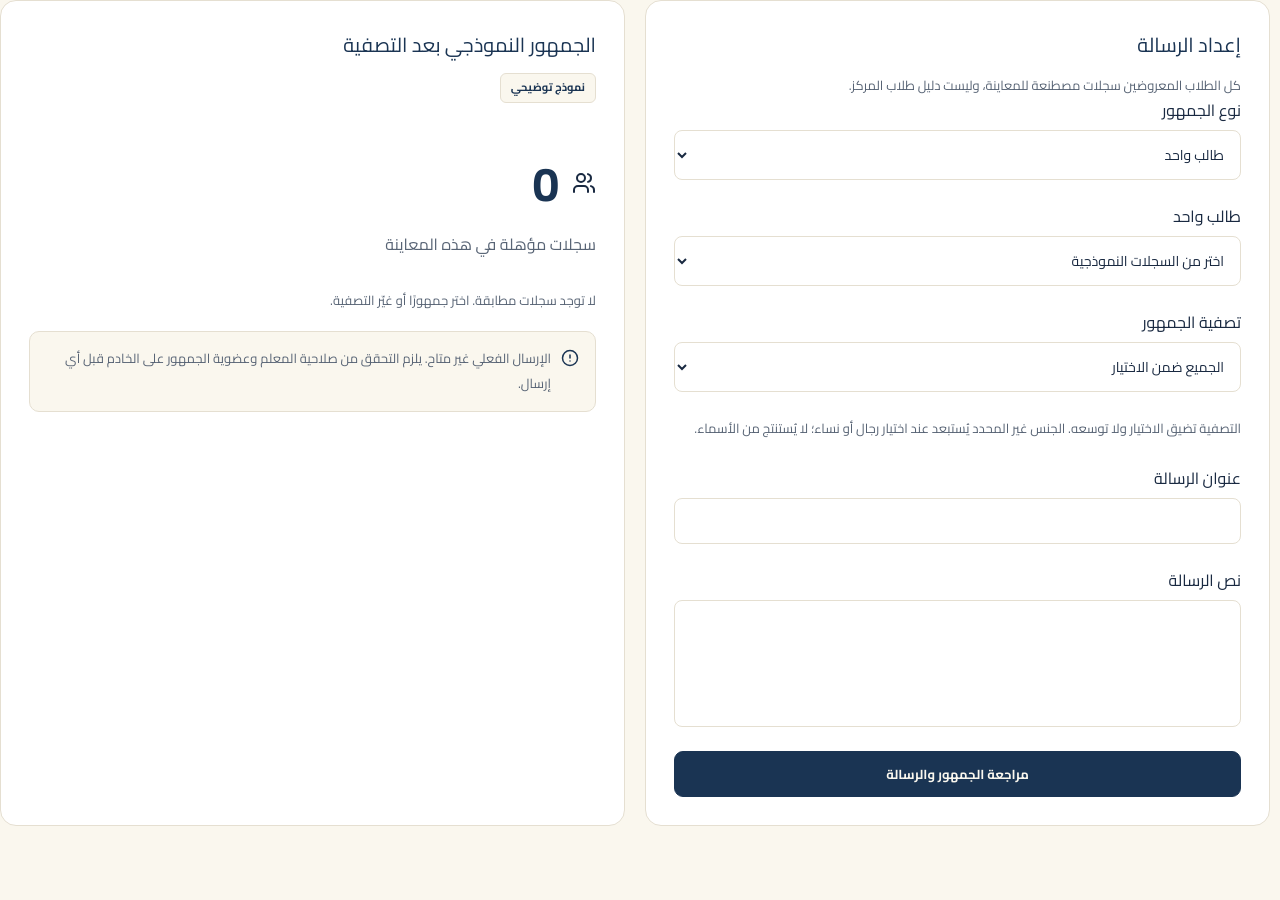
marketing tool previews › reviews recipients, restores focus, and invalidates completion after editing
Select "طالب نموذجي أ" in the dropdown labelled "طالب واحد" at (958,261), box [674,236,1241,286]
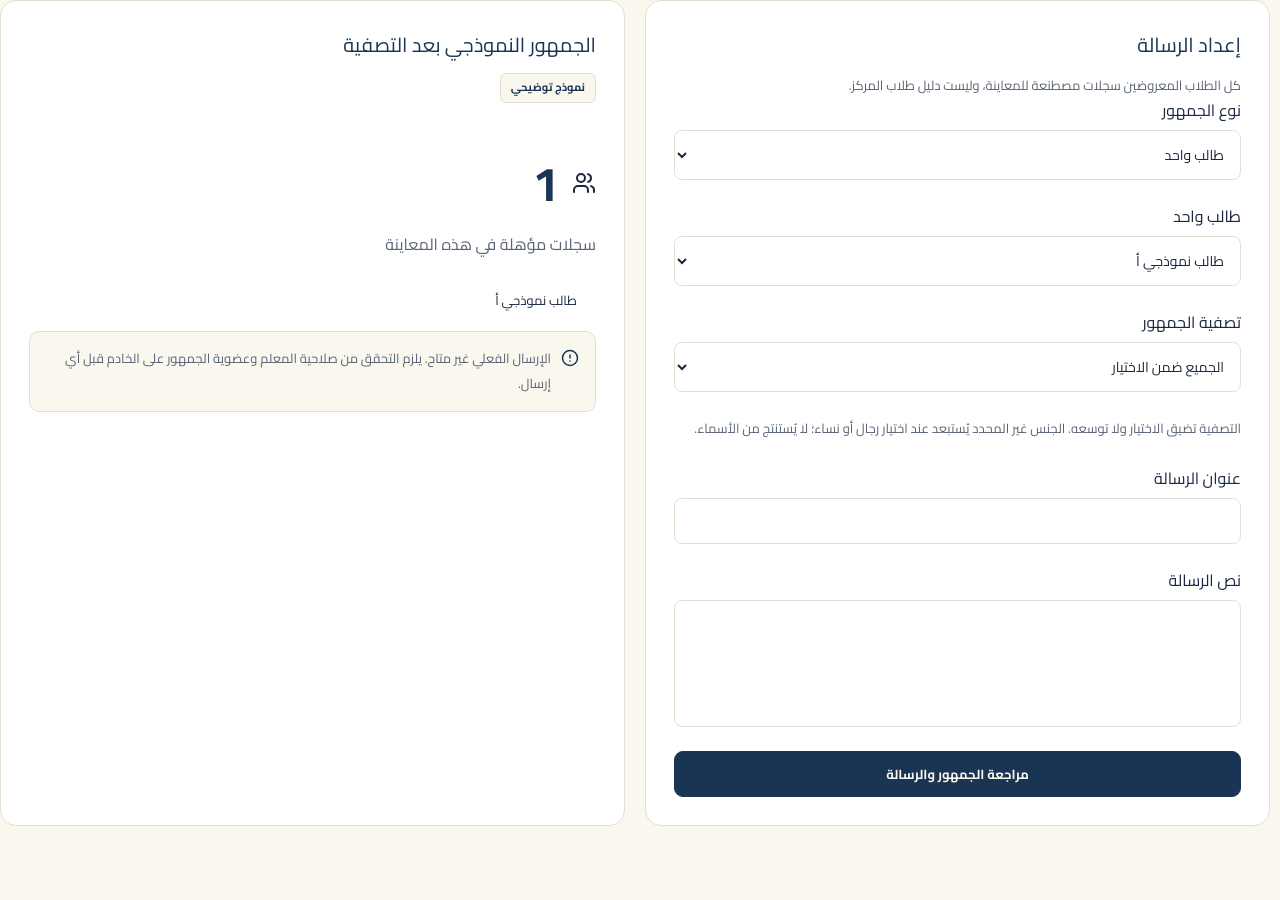
Type "عنوان محلي" into the field labelled "عنوان الرسالة" at (958,521), box [674,498,1241,544]
Type "نص نموذجي" into the text box labelled "نص الرسالة" at (958,663), box [674,600,1241,727]
Click the button "مراجعة الجمهور والرسالة" at (958,774), box [674,751,1241,797]
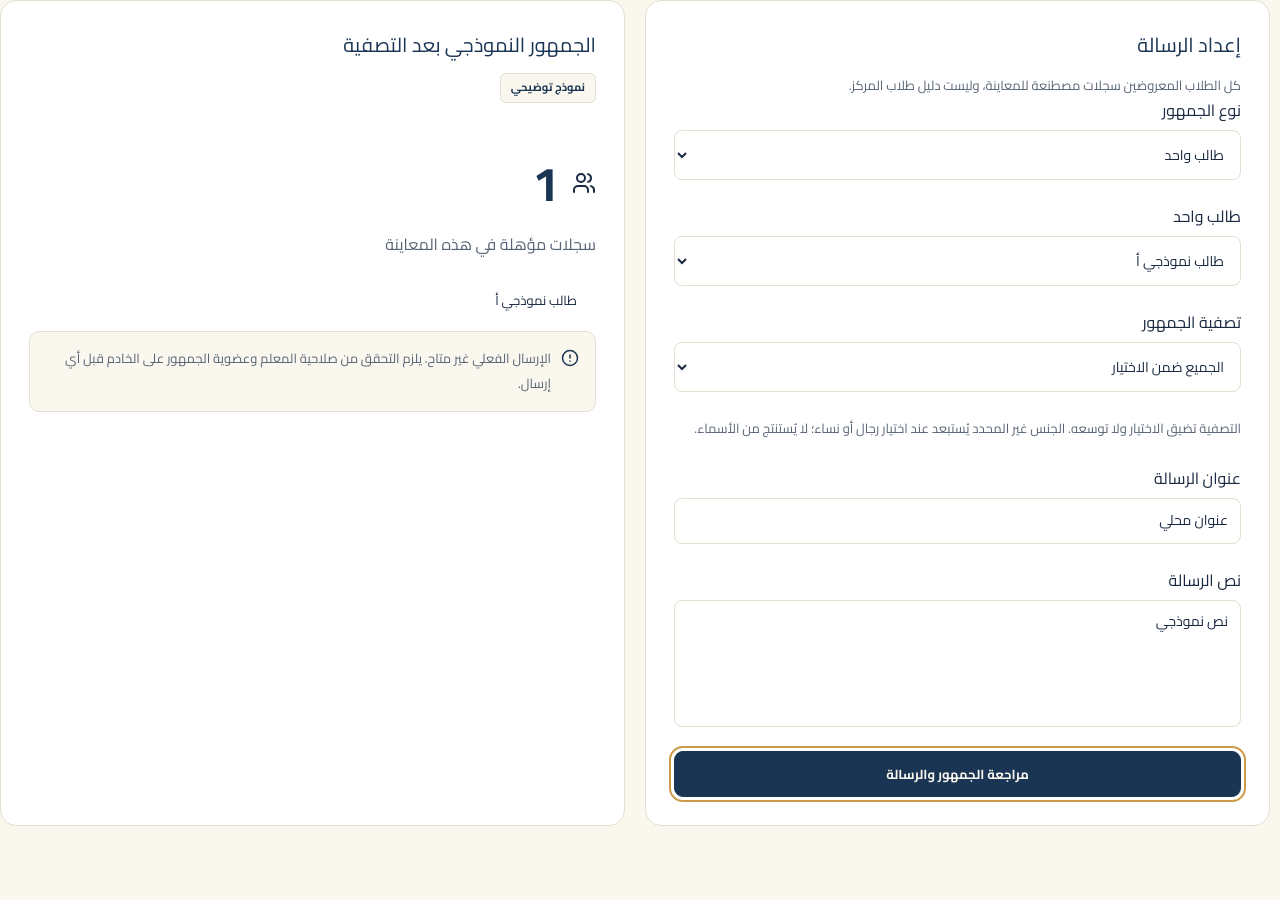
Click the button "مراجعة الجمهور والرسالة" at (958,774), box [674,751,1241,797]
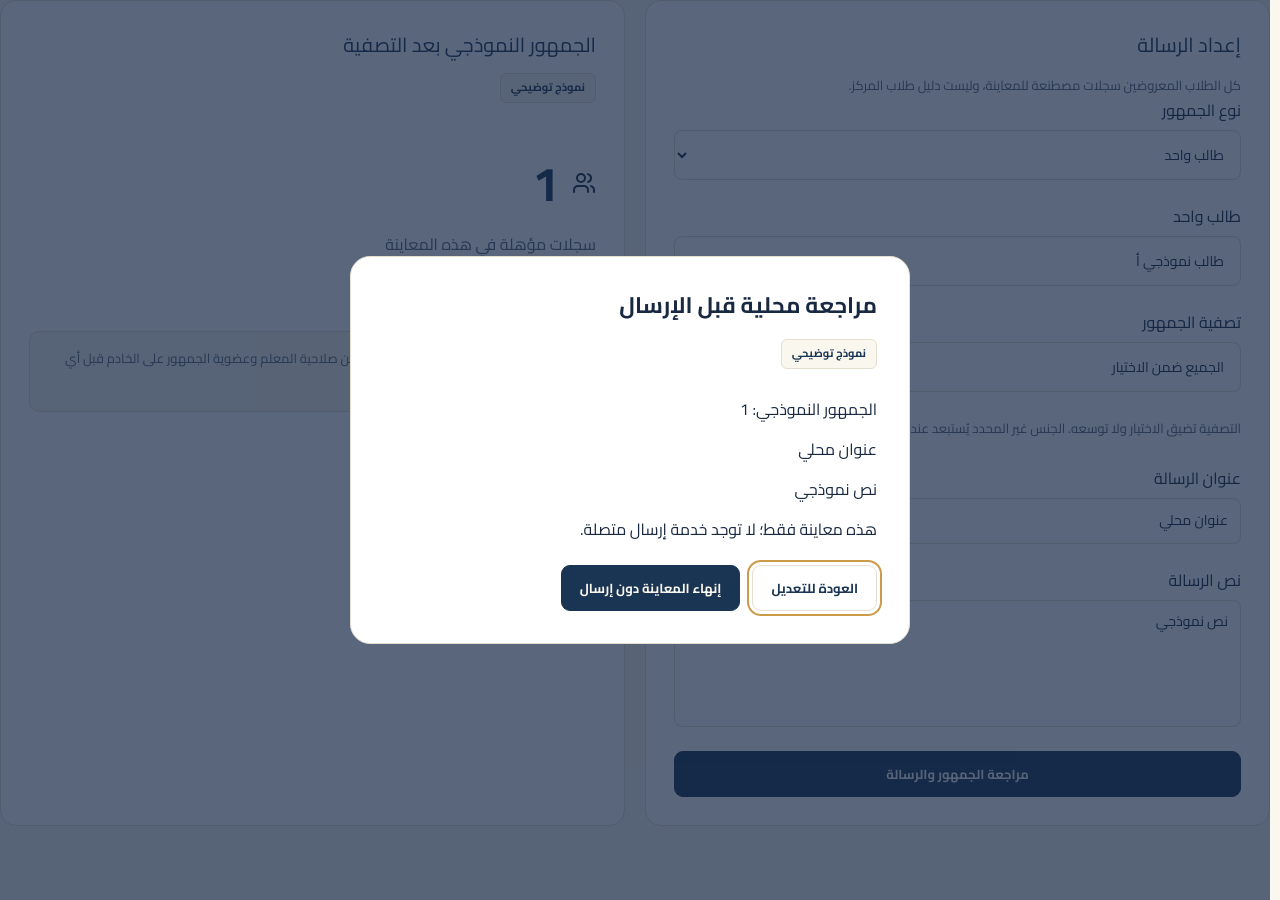
Click the button "إنهاء المعاينة دون إرسال" at (651,588), box [561,565,740,611]
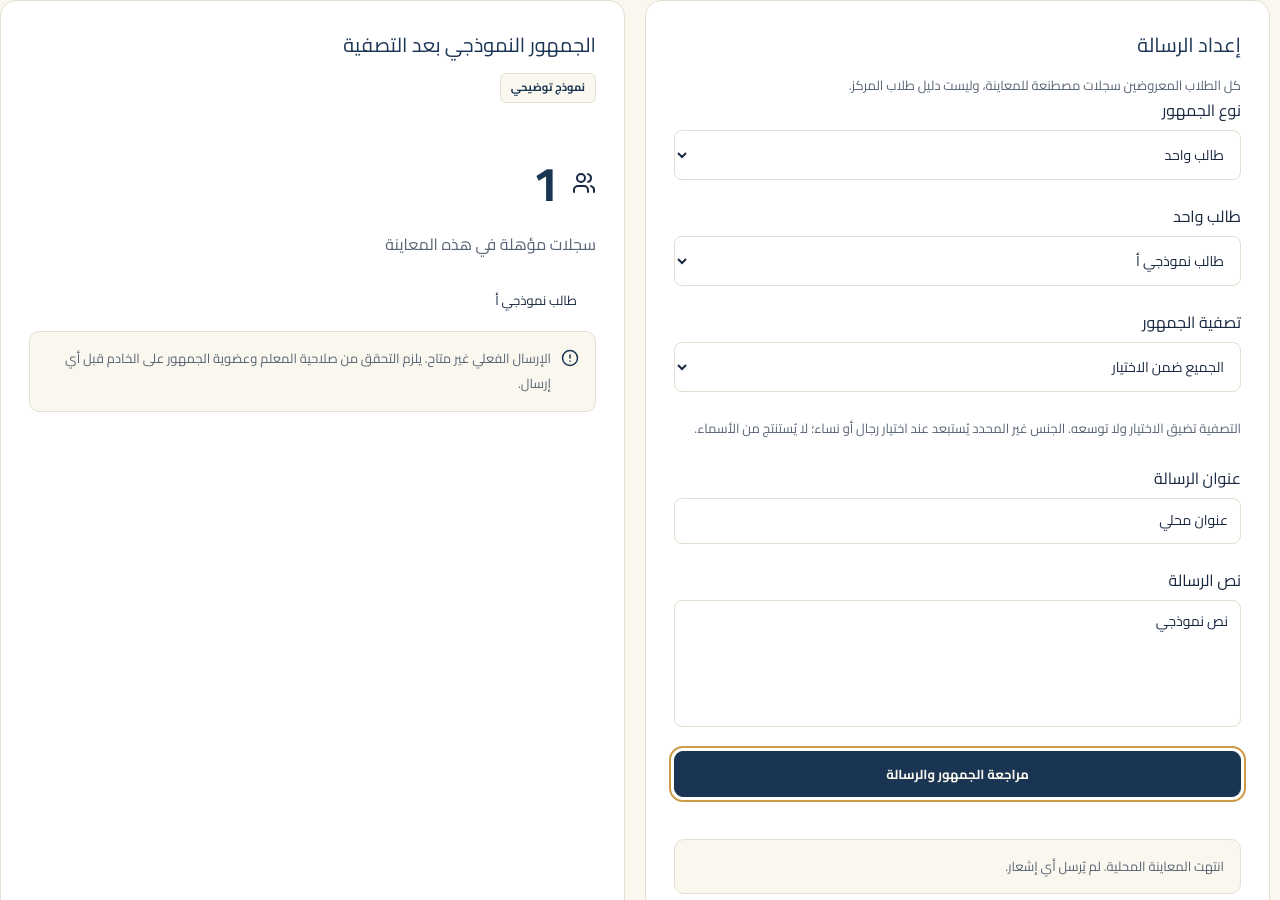
Result: the message shows "لم يُرسل أي إشعار" at [1005,854,1224,878]
Select "نساء فقط" in the dropdown labelled "تصفية الجمهور" at (958,367), box [674,342,1241,392]
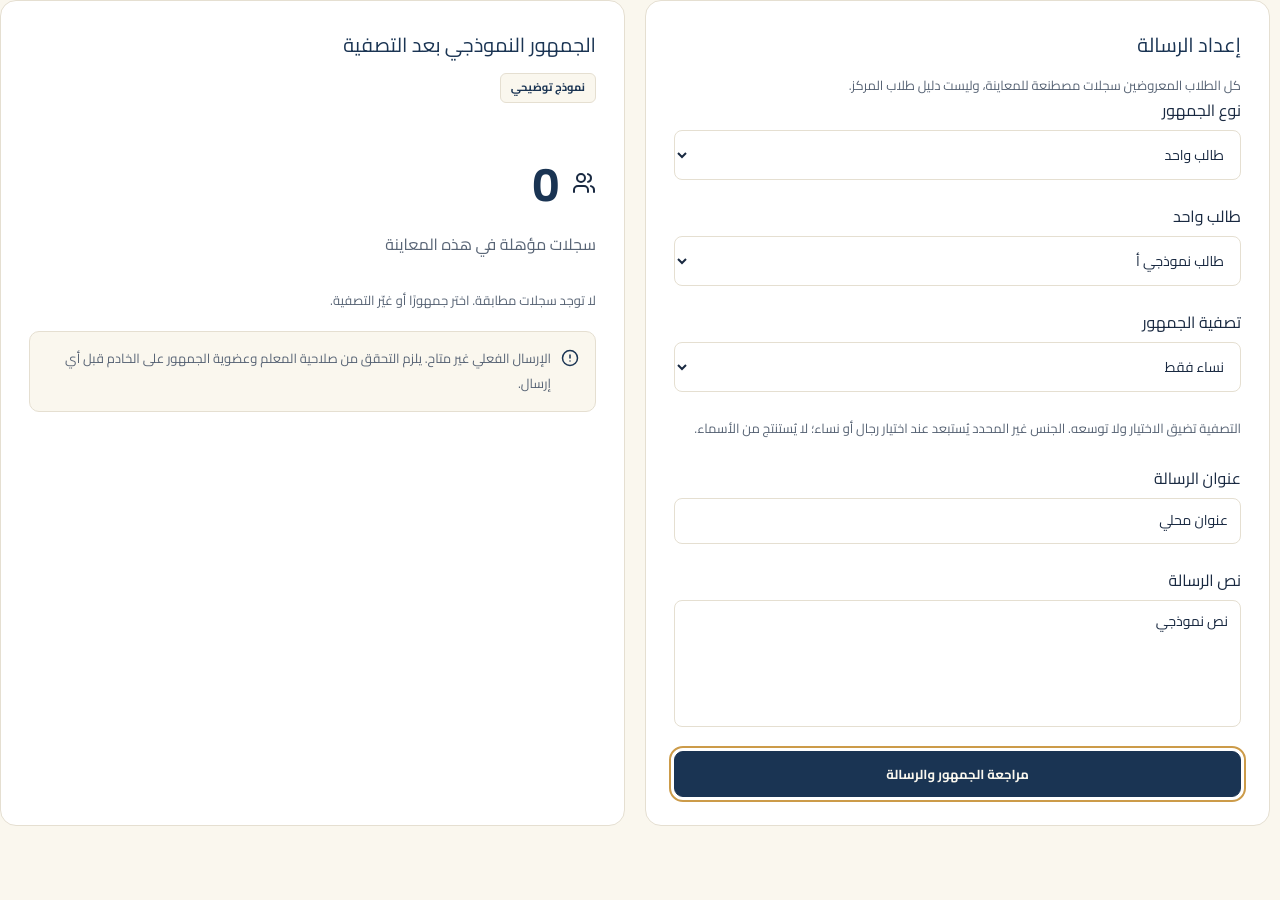
Result: the message "انتهت المعاينة المحلية. لم يُرسل أي إشعار." is gone
Click the button "مراجعة الجمهور والرسالة" at (958,774), box [674,751,1241,797]
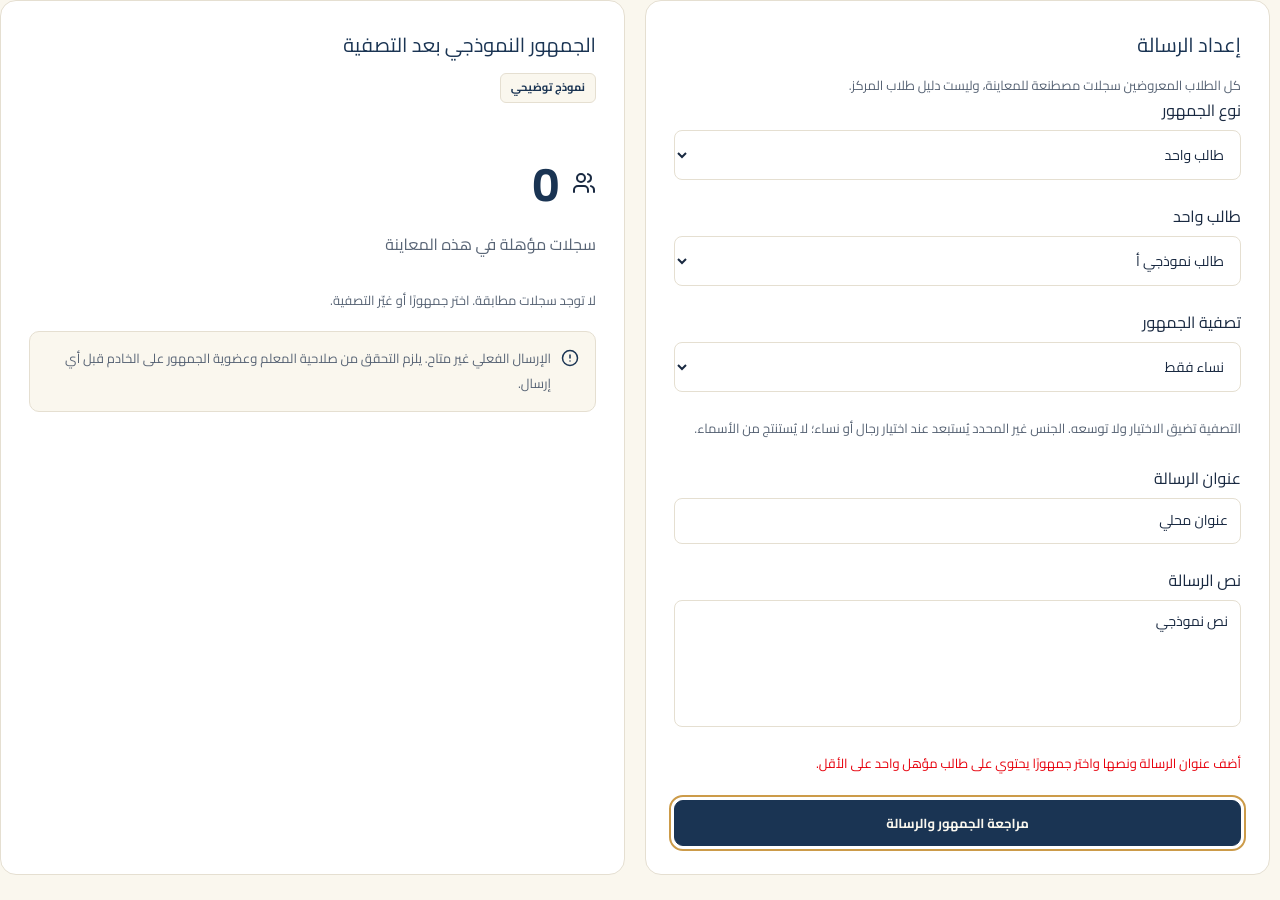
Result: the message shows "طالب مؤهل" at [816,751,1241,775]
